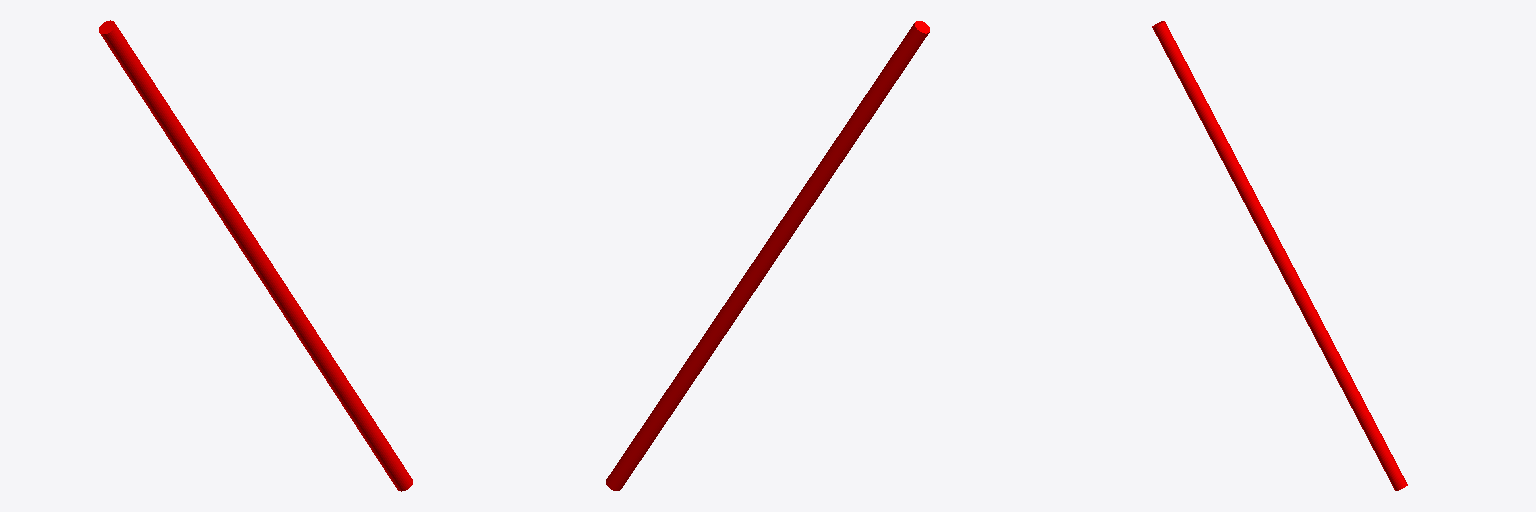
The robot description file, URDF, robot "tree_74.urdf":
<?xml version='1.0' encoding='utf-8'?>
<robot name="tree_74.urdf">
  <link name="branch_0">
    <inertial>
      <origin xyz="0.0 0.0 0.0" rpy="0.0 -0.0 0.0" />
      <mass value="1.0" />
      <inertia ixx="1.0" ixy="0.0" ixz="0.0" iyy="1.0" iyz="0.0" izz="1.0" />
    </inertial>
    <visual name="branch_0_visual">
      <geometry>
        <cylinder radius="0.04154998882664027" length="3.128865751070093" />
      </geometry>
      <material name="semantic_material" />
      <origin xyz="-0.8020926411039667 -0.04613616702923613 1.342374415442118" rpy="6.927443569104975e-18 0.5393198485112065 -3.08413621451959" />
    </visual>
    <collision name="branch_0_collision">
      <geometry>
        <cylinder radius="0.04154998882664027" length="3.128865751070093" />
      </geometry>
      <origin xyz="-0.8020926411039667 -0.04613616702923613 1.342374415442118" rpy="6.927443569104975e-18 0.5393198485112065 -3.08413621451959" />
    </collision>
  </link>
  <material name="semantic_material">
    <color rgba="1. 0. 0. 1." />
  </material>
</robot>

--- Render facts (derived) ---
Views: 3 orthographic renders of the robot side by side, from view 1: azimuth 30°, elevation 25°; view 2: azimuth 150°, elevation 25°; view 3: azimuth 330°, elevation 25°.
Robot: tree_74.urdf — 1 links, 0 joints (none); root link branch_0; default pose: all joints at 0.
Links seen in each view (by area): view 1: branch_0; view 2: branch_0; view 3: branch_0.
Link boxes in pixels (left/top/right/bottom): branch_0: left=99, top=20, right=412, bottom=491; branch_0: left=606, top=21, right=929, bottom=490; branch_0: left=1152, top=21, right=1407, bottom=490.
Size in the robot's own frame: 1.68 by 0.1752 by 2.73 metres.
Geometry: primitives only (box / cylinder / sphere), no mesh files.
